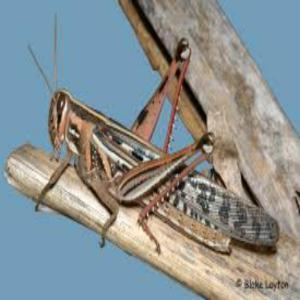locust: (36, 40, 289, 251)
